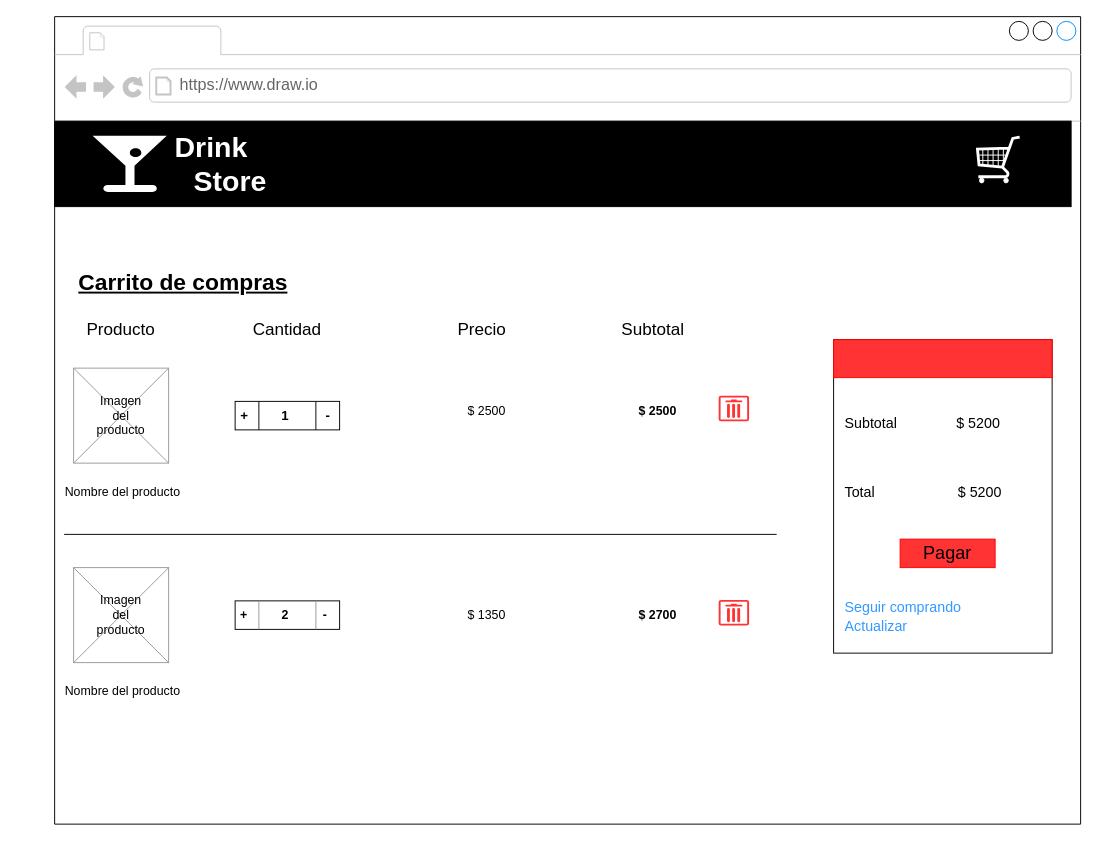
The diagram is 1097 pixels wide and 841 high, and some of its shapes have lost their labels. Each missing label, with the centre of its shape:
Page 1: (x=163, y=40)
Resumen de compra: (x=942, y=358)
